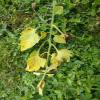Potato leaf early blight: (24, 51, 49, 73), (19, 27, 41, 50), (50, 48, 73, 65), (36, 79, 48, 97), (59, 31, 76, 40)
